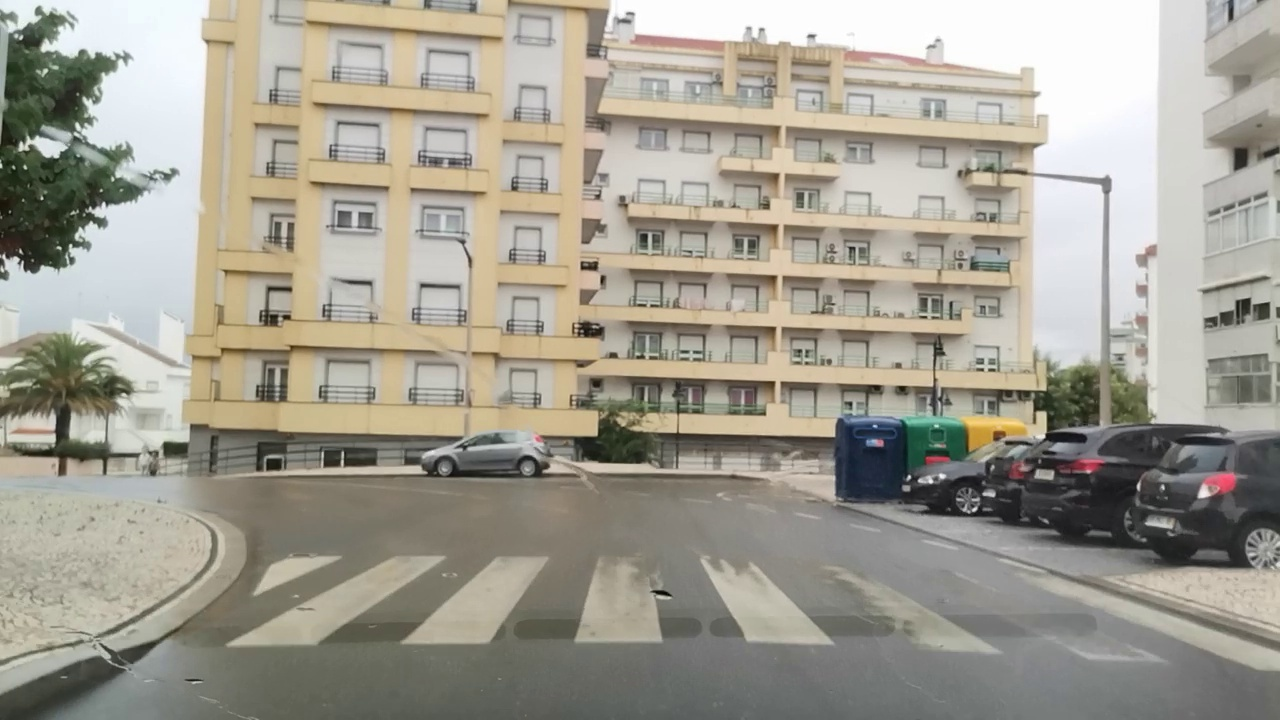Stairs: (225, 552, 1280, 673)
